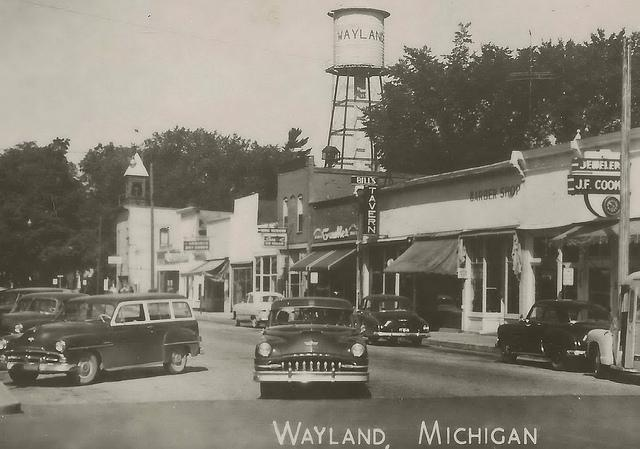car: (1, 290, 202, 386), (252, 299, 372, 384), (494, 298, 612, 370), (353, 293, 430, 343), (0, 291, 90, 333), (1, 288, 80, 314), (231, 292, 284, 327), (0, 275, 14, 292)
truck: (587, 270, 640, 380)
